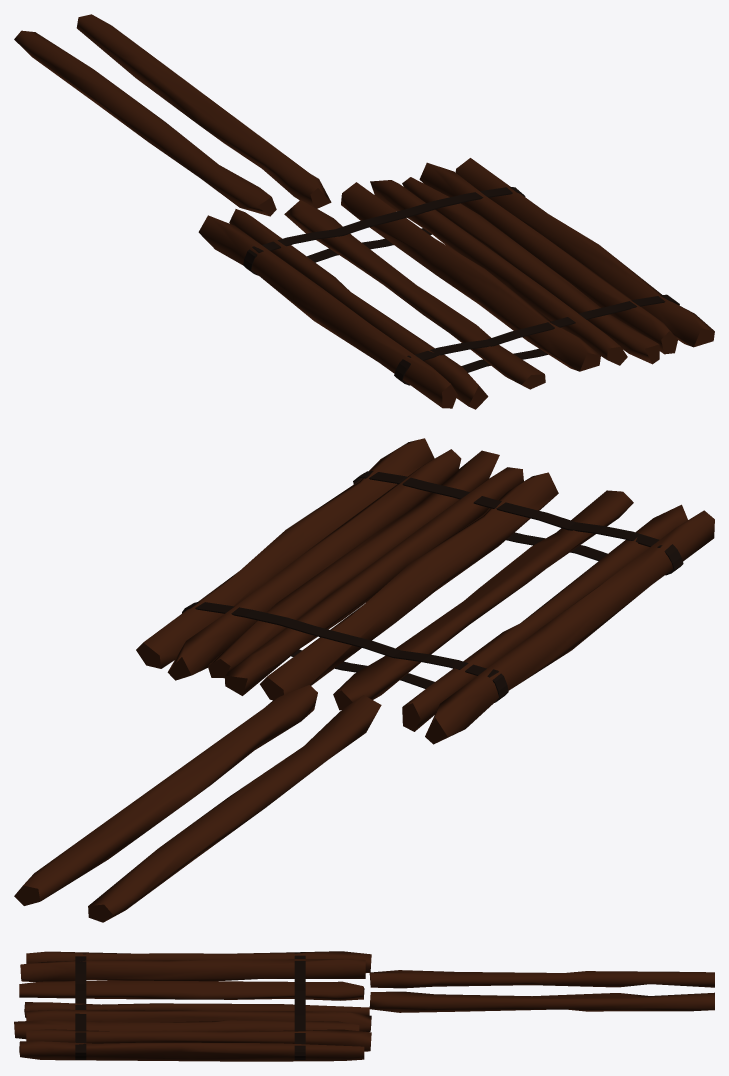
The model's file is raft.fbx.
3 renders of one model, top to bottom at view 1: azimuth 30°, elevation 25°; view 2: azimuth 150°, elevation 25°; view 3: azimuth 270°, elevation 25°, orthographic. The views are drawn at different scales.
Visible parts, largest first — view 1: Cylinder003, Cylinder009, Cylinder001, Cylinder006, Cylinder010, Cylinder002, Cylinder007, Cylinder004, Cylinder005, Cylinder008, Box002, Box003; view 2: Cylinder003, Cylinder009, Cylinder001, Cylinder006, Cylinder010, Cylinder007, Cylinder004, Cylinder002, Cylinder005, Cylinder008, Box003, Box002; view 3: Cylinder008, Cylinder001, Cylinder010, Cylinder002, Cylinder006, Cylinder007, Cylinder004, Cylinder005, Cylinder009, Cylinder003, Box002, Box003.
Boxes of the visible parts, x1=… form: Cylinder003: x1=341, y1=182, x2=600, y2=371; Cylinder009: x1=198, y1=215, x2=457, y2=408; Cylinder001: x1=76, y1=14, x2=331, y2=208; Cylinder006: x1=14, y1=30, x2=276, y2=216; Cylinder010: x1=455, y1=158, x2=714, y2=347; Cylinder002: x1=284, y1=200, x2=545, y2=389; Cylinder007: x1=419, y1=162, x2=677, y2=354; Cylinder004: x1=370, y1=180, x2=627, y2=365; Cylinder005: x1=402, y1=177, x2=659, y2=364; Cylinder008: x1=229, y1=209, x2=488, y2=409; Box002: x1=243, y1=187, x2=525, y2=275; Box003: x1=394, y1=294, x2=679, y2=385; Cylinder003: x1=260, y1=472, x2=558, y2=700; Cylinder009: x1=425, y1=510, x2=714, y2=744; Cylinder001: x1=14, y1=685, x2=317, y2=905; Cylinder006: x1=88, y1=695, x2=381, y2=922; Cylinder010: x1=136, y1=438, x2=434, y2=668; Cylinder007: x1=167, y1=449, x2=461, y2=680; Cylinder004: x1=224, y1=467, x2=523, y2=695; Cylinder002: x1=333, y1=490, x2=633, y2=710; Cylinder005: x1=207, y1=450, x2=499, y2=678; Cylinder008: x1=402, y1=504, x2=687, y2=731; Box003: x1=353, y1=471, x2=683, y2=575; Box002: x1=182, y1=601, x2=508, y2=702; Cylinder008: x1=20, y1=959, x2=365, y2=981; Cylinder001: x1=369, y1=991, x2=714, y2=1012; Cylinder010: x1=19, y1=1041, x2=364, y2=1061; Cylinder002: x1=19, y1=980, x2=364, y2=1000; Cylinder006: x1=369, y1=970, x2=714, y2=988; Cylinder007: x1=26, y1=1029, x2=371, y2=1051; Cylinder004: x1=26, y1=1009, x2=371, y2=1031; Cylinder005: x1=14, y1=1020, x2=359, y2=1039; Cylinder009: x1=26, y1=951, x2=371, y2=972; Cylinder003: x1=24, y1=1002, x2=369, y2=1017; Box002: x1=294, y1=952, x2=305, y2=1059; Box003: x1=75, y1=953, x2=86, y2=1059.
Bounding box in the file's own units: 92.87 × 10.16 × 279.
